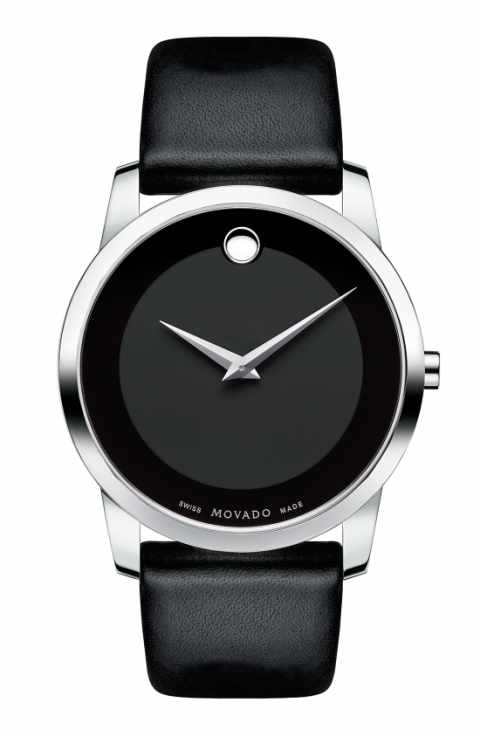clock: (58, 185, 429, 558)
